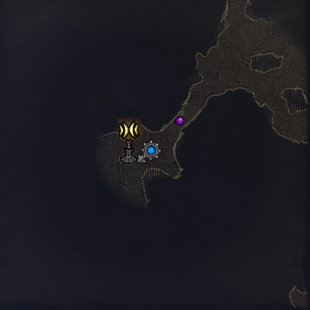ChannPylon: (117, 120, 139, 164)
